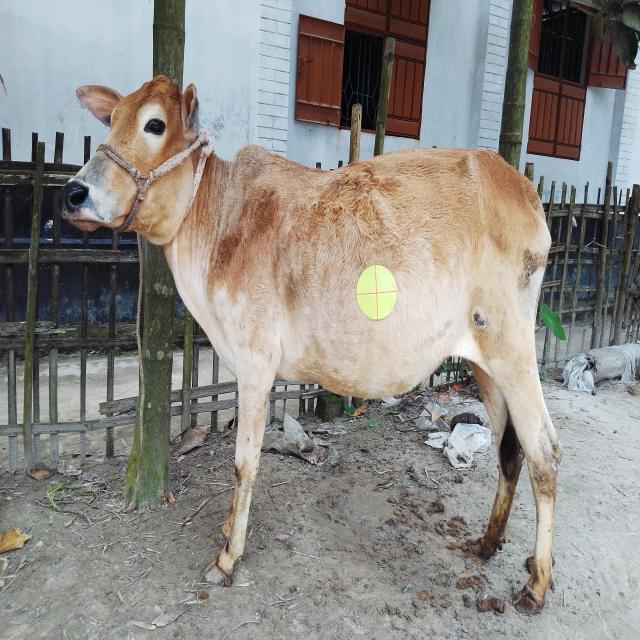badan_sapi: (234, 148, 548, 396)
sapi: (48, 58, 583, 624)
